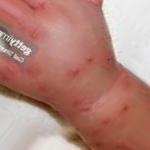Ants: (122, 70, 137, 89), (66, 63, 81, 79), (119, 101, 132, 116), (31, 29, 42, 41), (103, 54, 114, 64), (83, 55, 93, 64), (100, 118, 110, 127), (38, 84, 47, 94), (115, 143, 129, 149), (74, 99, 82, 107), (89, 129, 98, 136), (94, 142, 103, 147)
